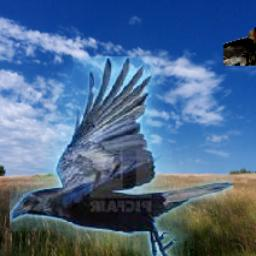Crow: (8, 56, 232, 256)
Swallow: (223, 26, 256, 66)
